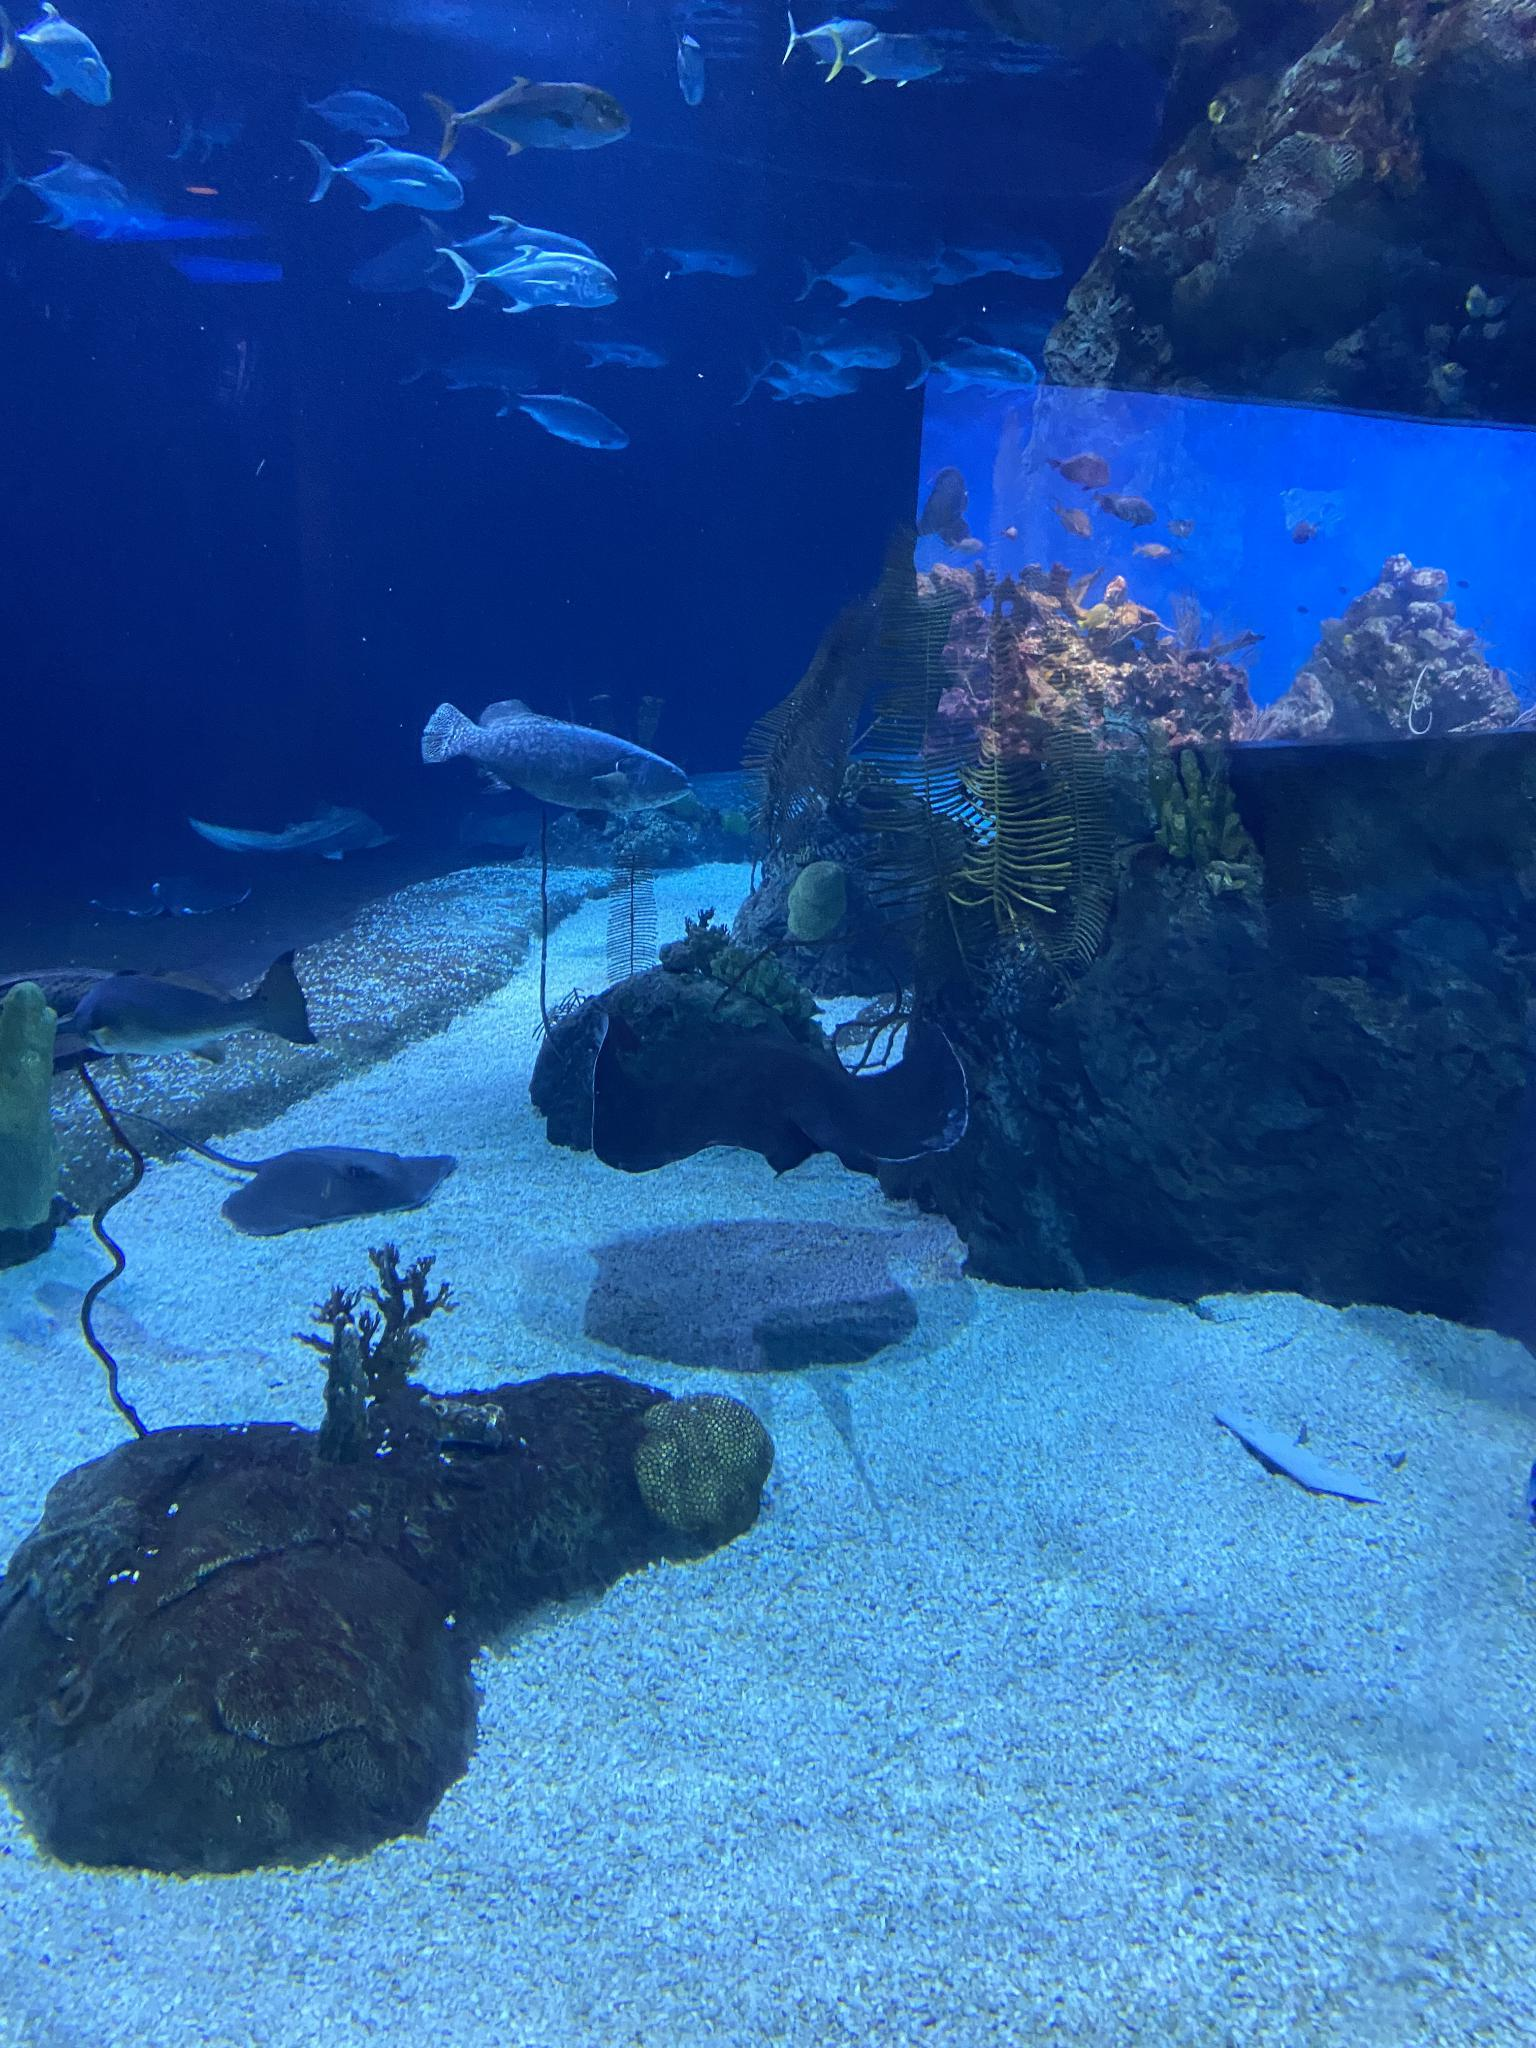fish: (423, 698, 694, 814), (69, 948, 315, 1068), (423, 77, 629, 169), (434, 245, 618, 318), (0, 145, 136, 242), (297, 139, 465, 216), (189, 805, 397, 863), (0, 5, 115, 110), (494, 382, 629, 455), (904, 329, 1037, 402), (795, 242, 933, 311), (418, 218, 599, 269), (936, 219, 1066, 284), (824, 26, 944, 90), (636, 224, 758, 285), (294, 85, 411, 144), (753, 339, 858, 402), (783, 319, 897, 376), (783, 11, 887, 71), (563, 327, 670, 374), (728, 360, 826, 410), (674, 27, 707, 111)
stingray: (578, 1005, 970, 1172), (216, 1145, 455, 1238)
